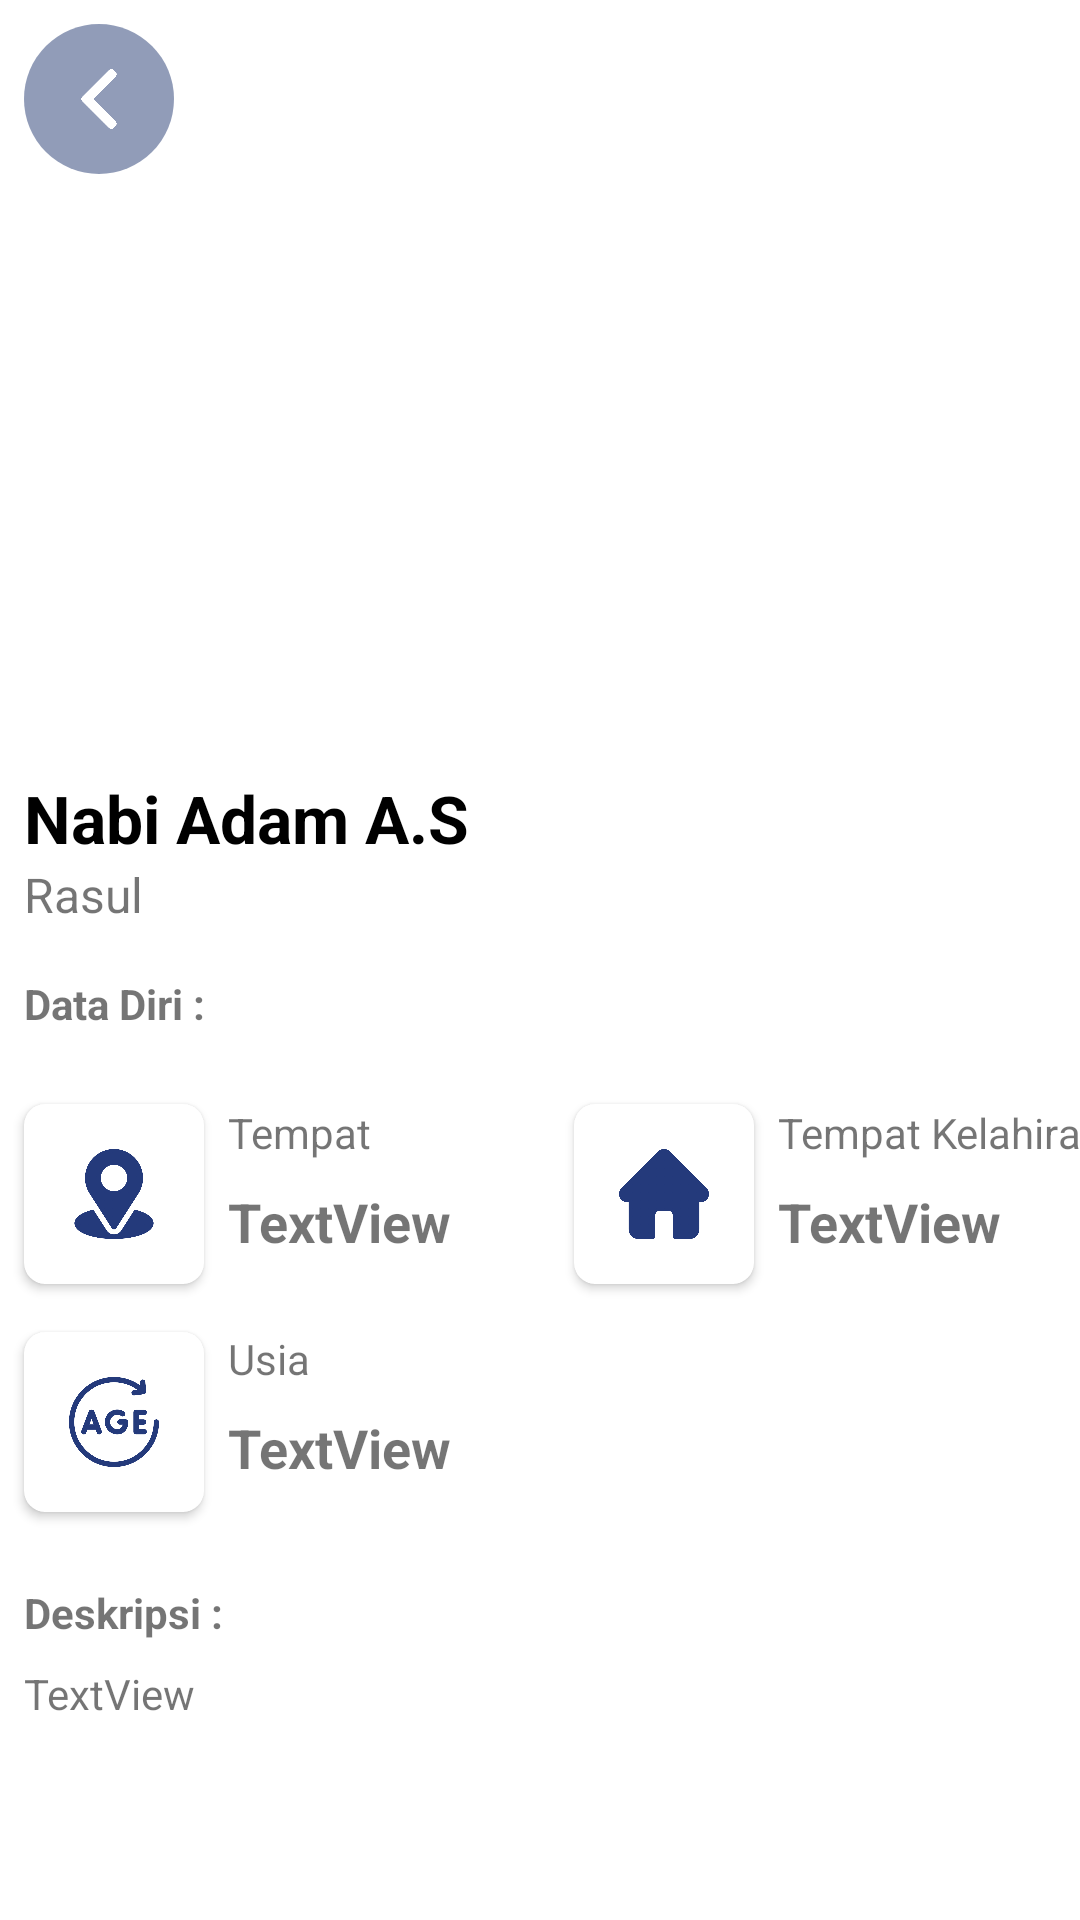

Where to tap for icons on this 1080x1920 app screen, as (x=x, y=y):
home: (x=664, y=1194)
kiriarrow: (x=99, y=99)
location: (x=114, y=1194)
